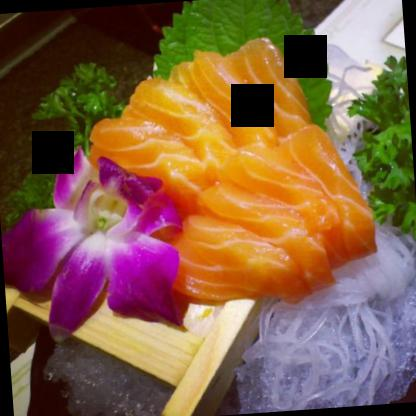salmon: (135, 32, 384, 287), (86, 101, 334, 313)
